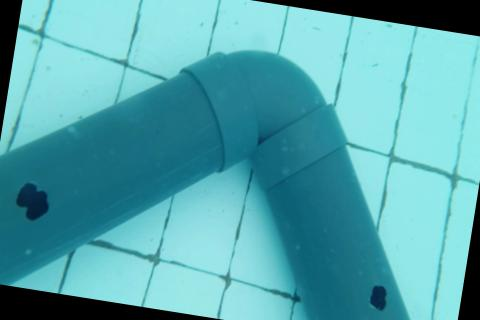kebocoran: (12, 178, 54, 225), (367, 283, 390, 312)
